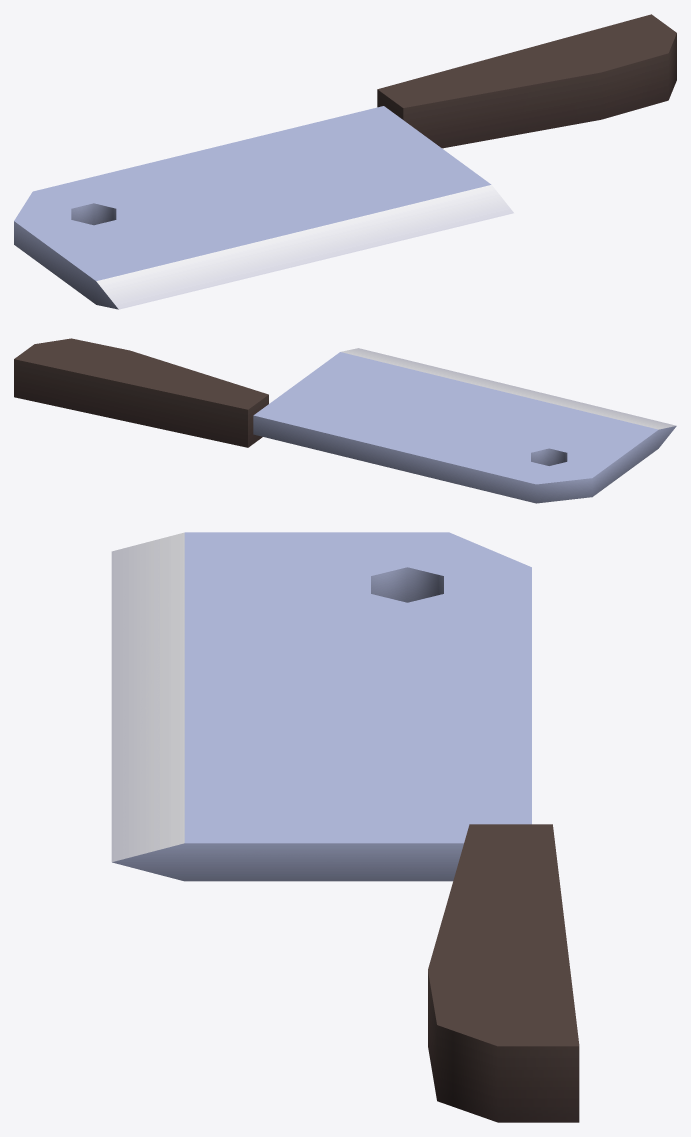
The model's file is x-cleaver.glb.
The picture shows the model from 3 angles, top to bottom: view 1: azimuth 30°, elevation 25°; view 2: azimuth 150°, elevation 25°; view 3: azimuth 270°, elevation 25°; orthographic projection. The views are drawn at different scales.
Parts seen in each view (by area): view 1: cooking-knife-chopping; view 2: cooking-knife-chopping; view 3: cooking-knife-chopping.
Boxes of the visible parts, <box> form: cooking-knife-chopping: <box>14,14,676,309</box>; cooking-knife-chopping: <box>14,338,676,503</box>; cooking-knife-chopping: <box>111,532,579,1122</box>.
Bounding box in the file's own units: 0.6 × 0.04 × 0.2227.
1 material, 1 textured.
